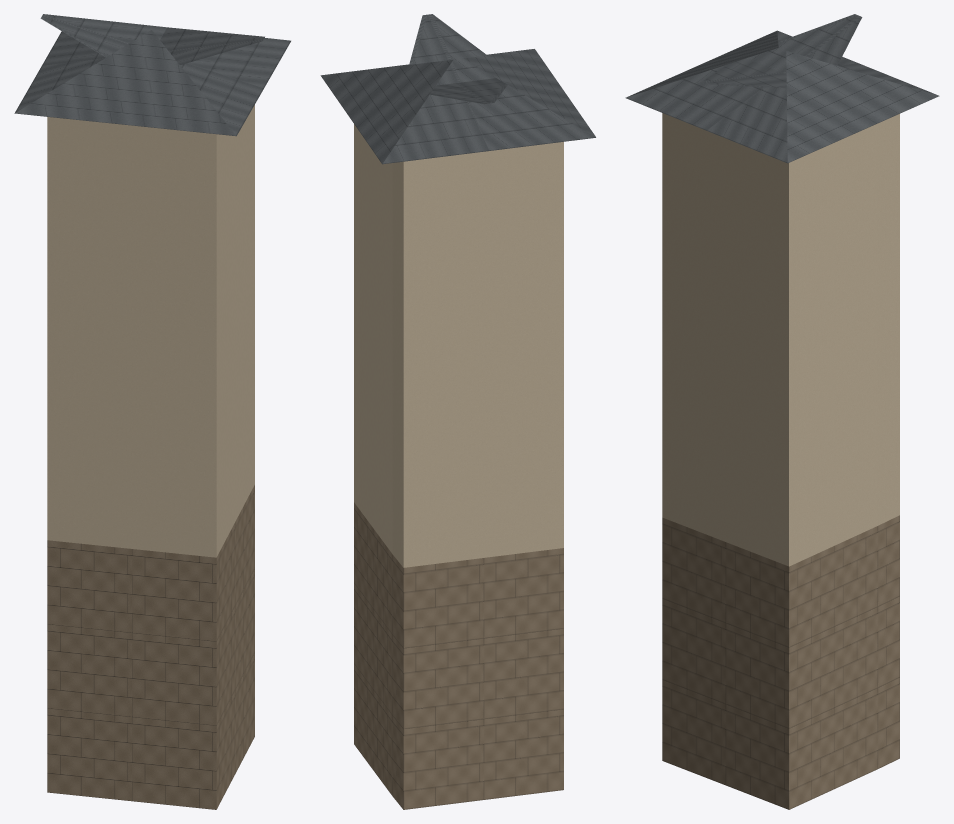
The model's file is bld_c-4_17_543.gltf.
The picture shows the model from 3 angles, left to right: view 1: azimuth 30°, elevation 25°; view 2: azimuth 150°, elevation 25°; view 3: azimuth 270°, elevation 25°; orthographic projection. The views are drawn at different scales.
Parts seen in each view (by area): view 1: bld_c-4_17_543; view 2: bld_c-4_17_543; view 3: bld_c-4_17_543.
Boxes of the visible parts, x1,y1,x2,y2 form: bld_c-4_17_543: [14, 14, 290, 809]; bld_c-4_17_543: [320, 14, 595, 809]; bld_c-4_17_543: [625, 14, 939, 809].
Size of the model in its own units: 5.97 by 14.9 by 5.98.
Materials: 3 (3 with a texture image).
